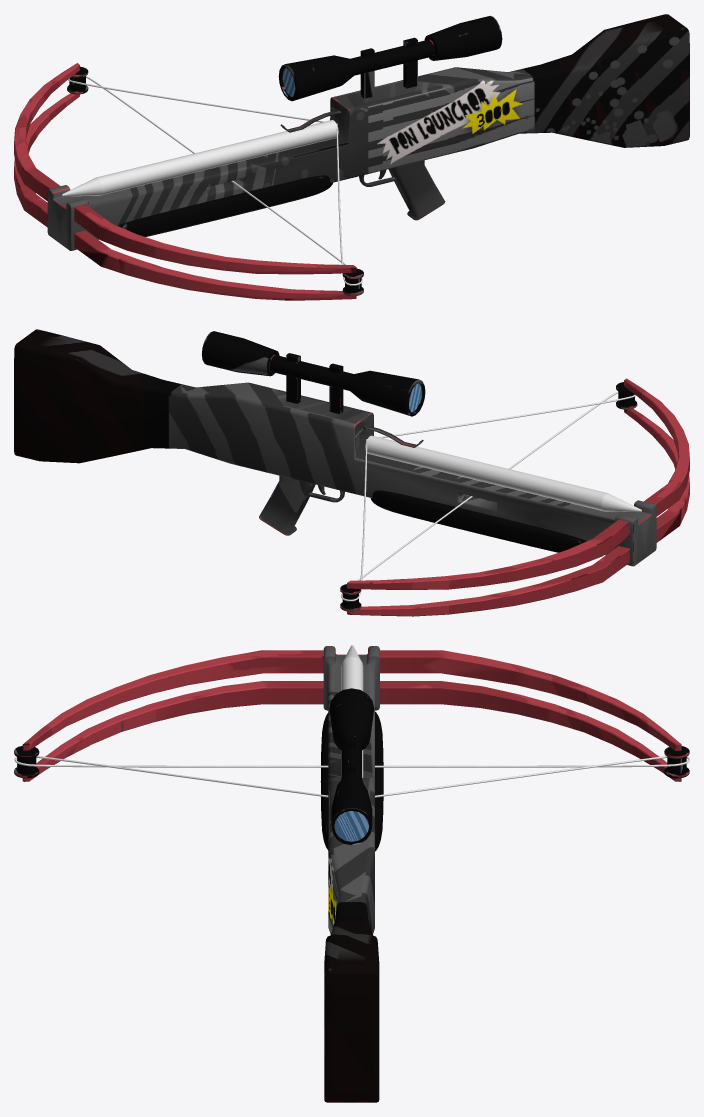
File: crossbow.fbx
3 views of the same model, one above another, from view 1: azimuth 30°, elevation 25°; view 2: azimuth 150°, elevation 25°; view 3: azimuth 270°, elevation 25° (orthographic). The views are drawn at different scales.
Parts seen in each view (by area): view 1: Body, Arms, Scope, Cylinder, Handle, String, Wheels; view 2: Body, Arms, Scope, Cylinder, Handle, String, Wheels; view 3: Arms, Body, Scope, String, Handle, Wheels, Cylinder.
Boxes of the visible parts, x1=… form: Body: x1=47, y1=14, x2=689, y2=250; Arms: x1=14, y1=63, x2=356, y2=300; Scope: x1=278, y1=15, x2=502, y2=101; Cylinder: x1=62, y1=120, x2=338, y2=196; Handle: x1=118, y1=175, x2=332, y2=236; String: x1=68, y1=76, x2=362, y2=285; Wheels: x1=67, y1=66, x2=363, y2=296; Body: x1=14, y1=329, x2=656, y2=566; Arms: x1=347, y1=378, x2=689, y2=616; Scope: x1=201, y1=331, x2=425, y2=416; Cylinder: x1=365, y1=435, x2=641, y2=511; Handle: x1=370, y1=490, x2=586, y2=552; String: x1=341, y1=391, x2=635, y2=601; Wheels: x1=340, y1=382, x2=637, y2=611; Arms: x1=22, y1=650, x2=681, y2=781; Body: x1=323, y1=646, x2=379, y2=1102; Scope: x1=329, y1=688, x2=374, y2=845; String: x1=14, y1=756, x2=689, y2=797; Handle: x1=320, y1=711, x2=383, y2=851; Wheels: x1=14, y1=745, x2=689, y2=778; Cylinder: x1=341, y1=645, x2=363, y2=777.
Size of the model in its own units: 2433 by 684 by 1950.
